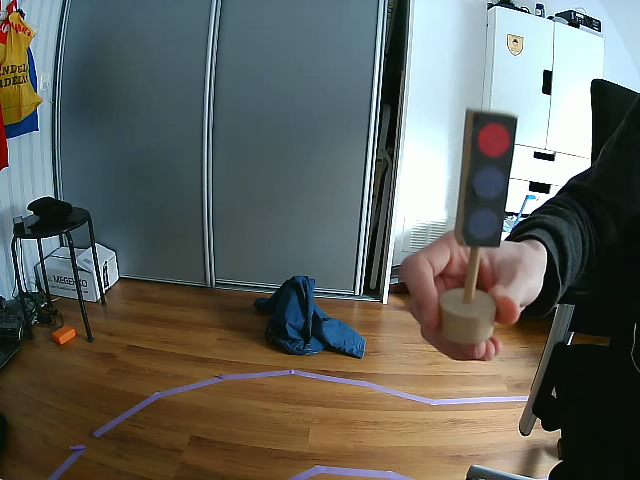roodlicht: (458, 111, 519, 243)
